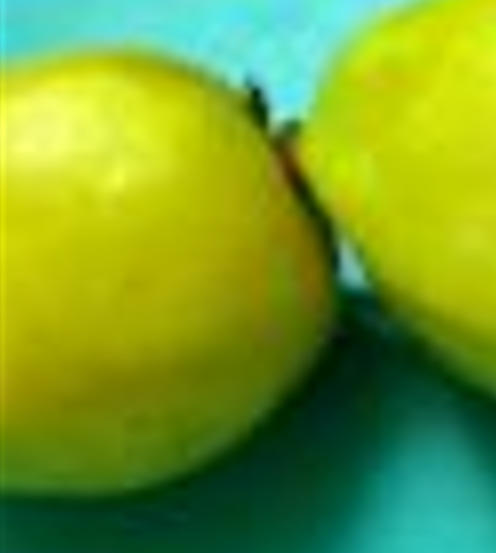guava_A: (1, 43, 341, 496)
